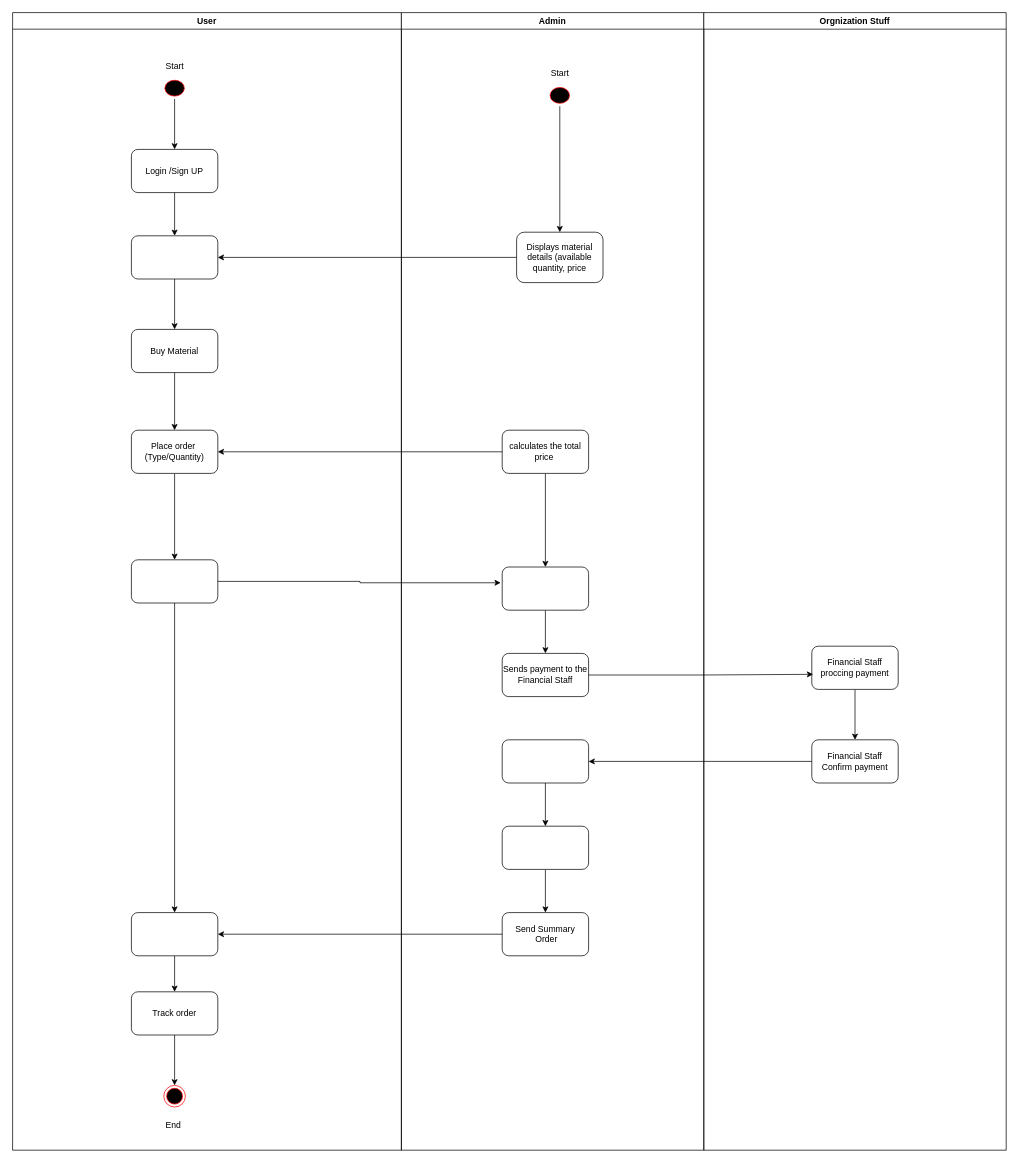
Image size: 1019x1163. Some labels were removed from this diagram. The shapes that lost their labels are listed below. From the top down, each one's centre as x and y in pixels, then its label:
At pixel 174 257: "Discover shop".
At pixel 174 581: "Payment".
At pixel 545 588: "Requests payment".
At pixel 545 761: "Confirm payment".
At pixel 545 847: "confirms order and updates inventory.".
At pixel 174 934: "invoice Order".
